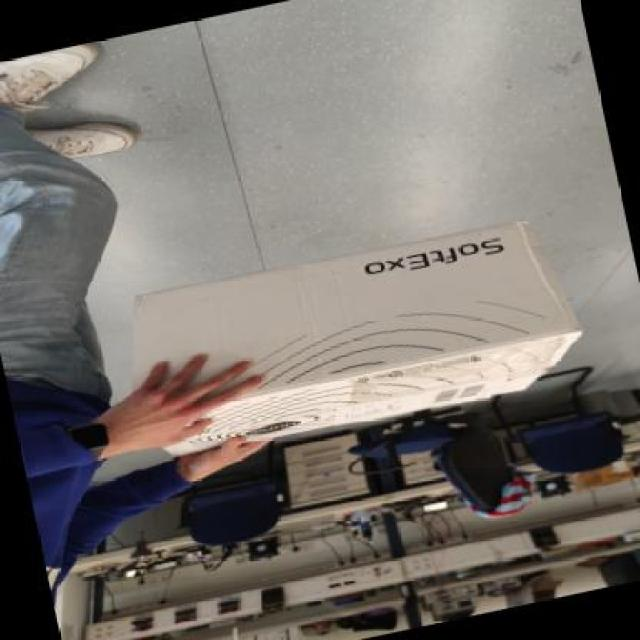box: (111, 198, 592, 492)
